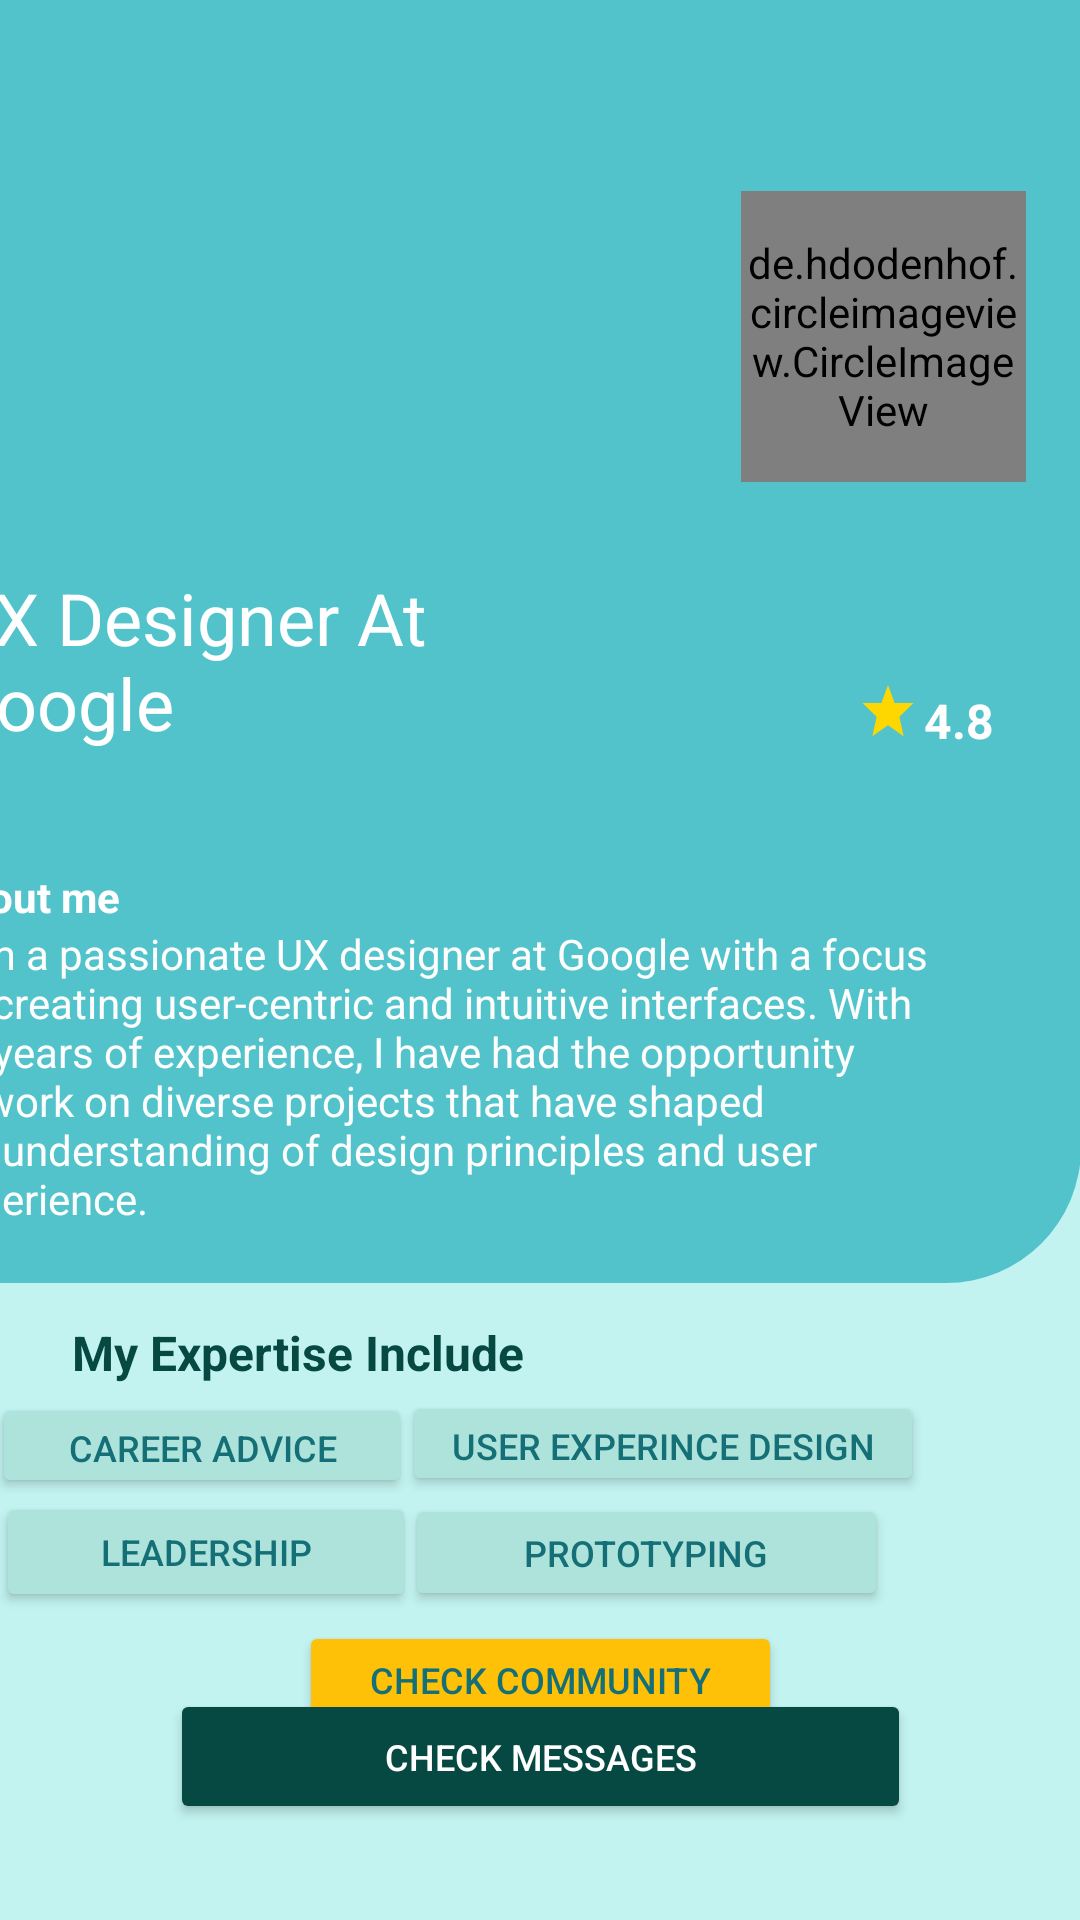

Icon bounding boxes for this 1080px×1920px phone screenshot, format {"left": x1, "top": y1, "right": x2, "bottom": y2}:
yellowstar: {"left": 863, "top": 685, "right": 913, "bottom": 736}
